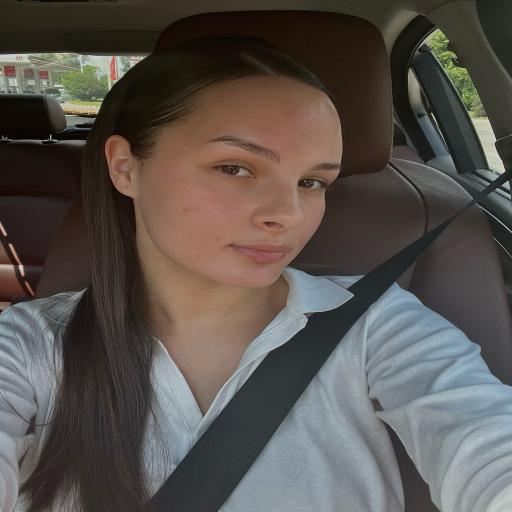marija: (138, 74, 344, 285)
